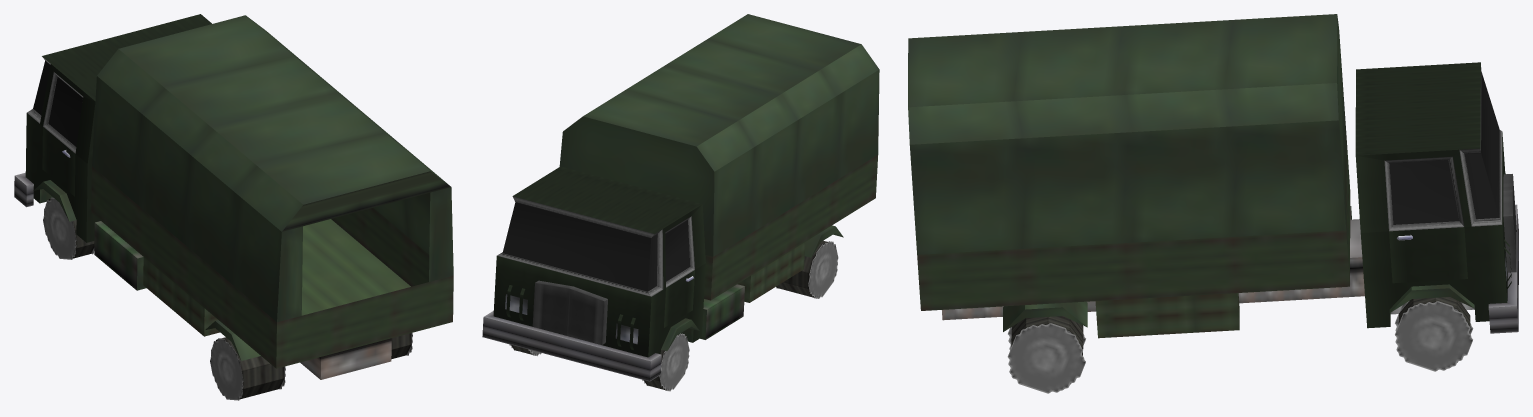
File: dam tuck.obj
3 renders of one model, left to right at view 1: azimuth 30°, elevation 25°; view 2: azimuth 150°, elevation 25°; view 3: azimuth 270°, elevation 25°, orthographic. The views are drawn at different scales.
Size of the model in its own units: 14.8 by 20.03 by 35.86.
Materials: 15 (15 with a texture image).
